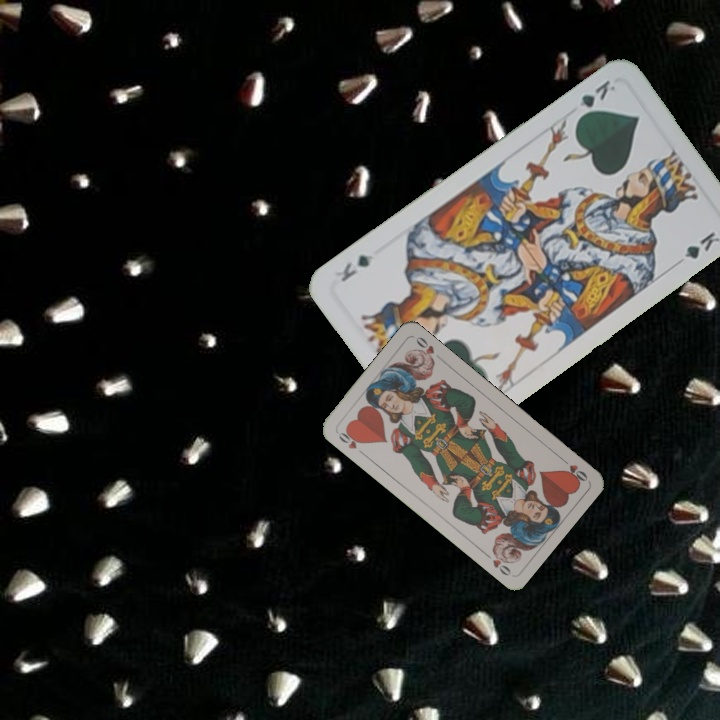GK: (572, 76, 618, 123)
HO: (334, 425, 367, 458), (556, 453, 590, 485)
